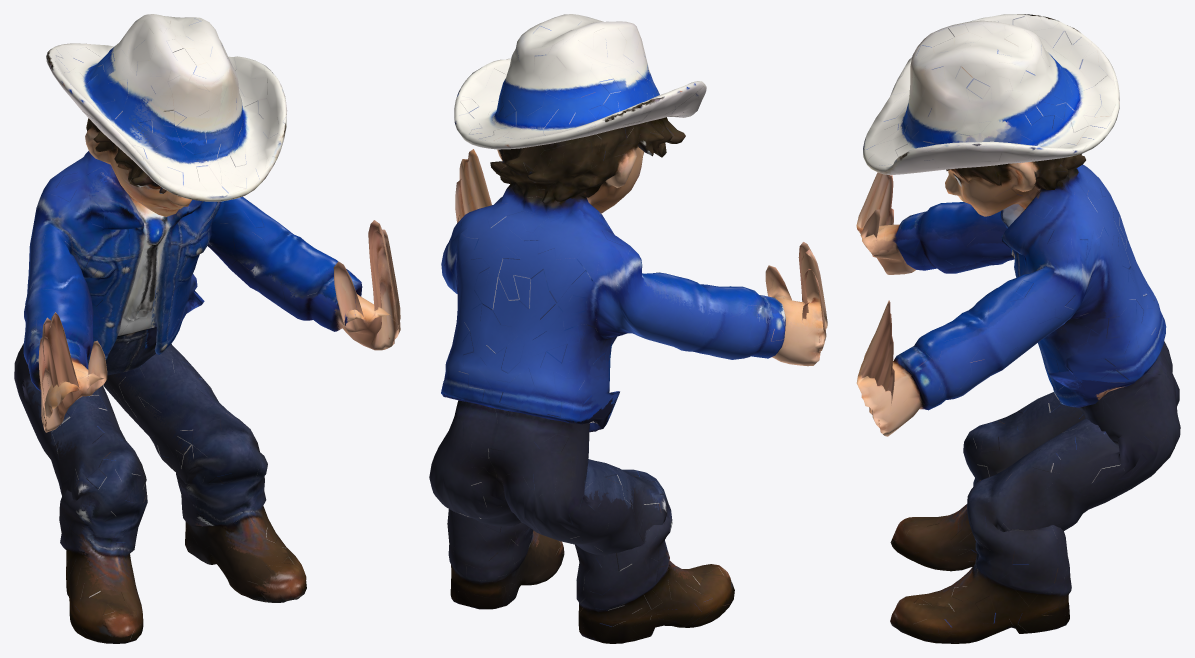
Rendered from finn-ride.glb.
3 renders of one model, left to right at view 1: azimuth 30°, elevation 25°; view 2: azimuth 150°, elevation 25°; view 3: azimuth 270°, elevation 25°, orthographic. The views are drawn at different scales.
Visible parts, largest first — view 1: geometry_0; view 2: geometry_0; view 3: geometry_0.
Part boxes in pixels (x1,y1,x2,y2): geometry_0: [14, 14, 400, 643]; geometry_0: [429, 14, 827, 643]; geometry_0: [856, 14, 1180, 643].
Bounding box in the file's own units: 0.9068 × 1.39 × 0.7149.
1 material, 1 textured.
